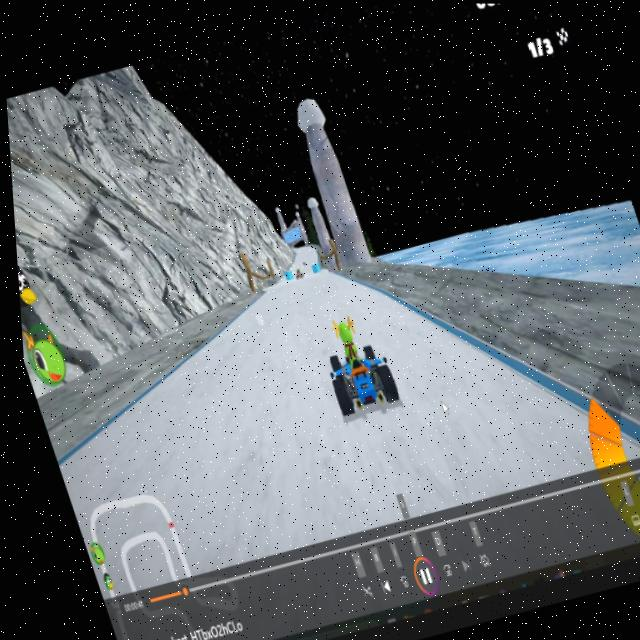bonus: (304, 253, 326, 279), (277, 267, 293, 285)
enemy_kart: (289, 264, 304, 280)
off_track: (5, 95, 294, 324), (402, 173, 640, 329)
player_kart: (306, 308, 400, 424)
track: (254, 275, 356, 328)
